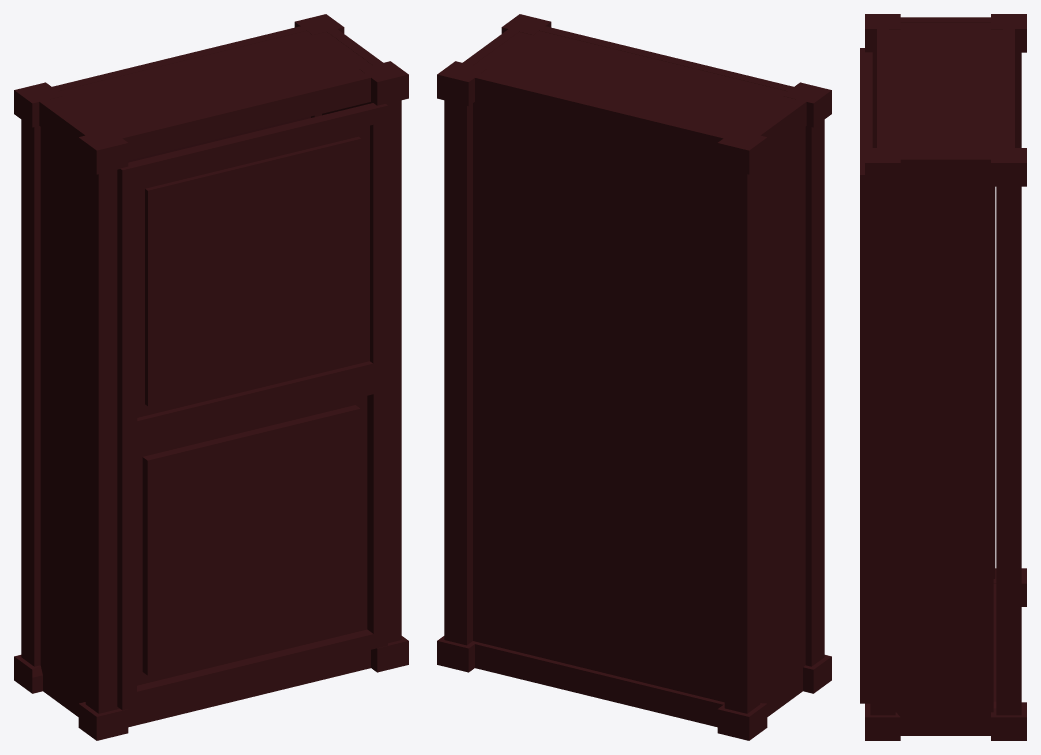
The model's file is ClosetToHide.fbx.
The picture shows the model from 3 angles, left to right: view 1: azimuth 30°, elevation 25°; view 2: azimuth 150°, elevation 25°; view 3: azimuth 270°, elevation 25°; orthographic projection. The views are drawn at different scales.
Visible parts, largest first — view 1: Cube, Cube.006, Cube.004, Cube.001; view 2: Cube.003, Cube.004, Cube.006, Cube.001; view 3: Cube.006, Cube.004, Cube.001, Cube.
Part boxes in pixels (x1=…): Cube: x1=117, y1=103, x2=387, y2=710; Cube.006: x1=78, y1=28, x2=408, y2=740; Cube.004: x1=14, y1=14, x2=344, y2=716; Cube.001: x1=50, y1=31, x2=372, y2=133; Cube.003: x1=473, y1=102, x2=724, y2=702; Cube.004: x1=437, y1=61, x2=806, y2=740; Cube.006: x1=462, y1=14, x2=831, y2=693; Cube.001: x1=473, y1=31, x2=795, y2=133; Cube.006: x1=865, y1=14, x2=993, y2=740; Cube.004: x1=898, y1=14, x2=1026, y2=740; Cube.001: x1=889, y1=22, x2=1002, y2=708; Cube: x1=860, y1=48, x2=872, y2=703.
Size of the model in its own units: 223 by 404 by 105.
